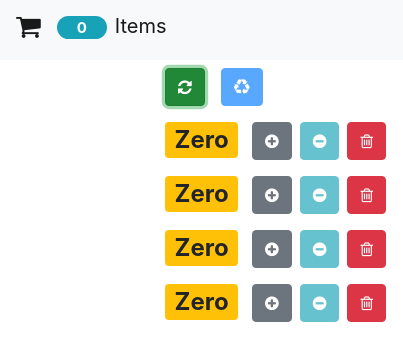
Test: Test Counter App › Delete Counter
Click the 4th button with test id "deleteCounter" at (367, 303), box [347,284,386,322]
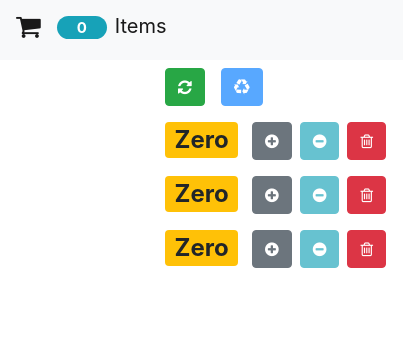
Result: the number of elements with test id "itemCount" is 3 at [165,122,238,158]; [165,176,238,212]; [165,230,238,266]
